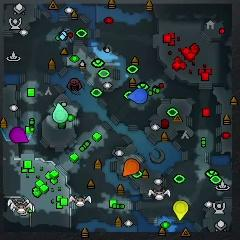p1: (128, 88, 147, 104)
p2: (52, 103, 68, 123)
p3: (9, 127, 29, 143)
p4: (173, 201, 189, 221)
p5: (123, 158, 140, 176)
